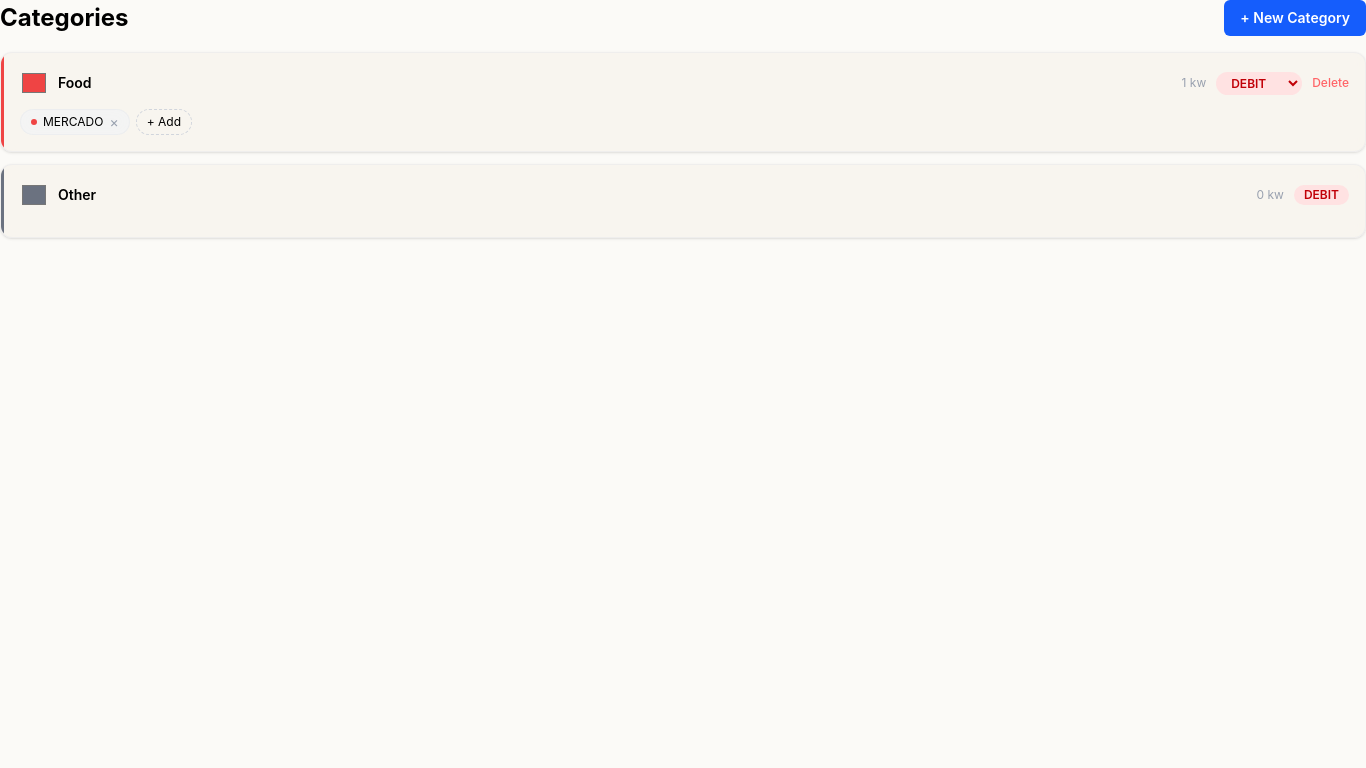
Scenario: Categories › opens keyword modal when add keyword clicked
The width and height of the screenshot is (1366, 768).
Click the button "+ Add".
click(164, 122)  # box [136,109,192,135]
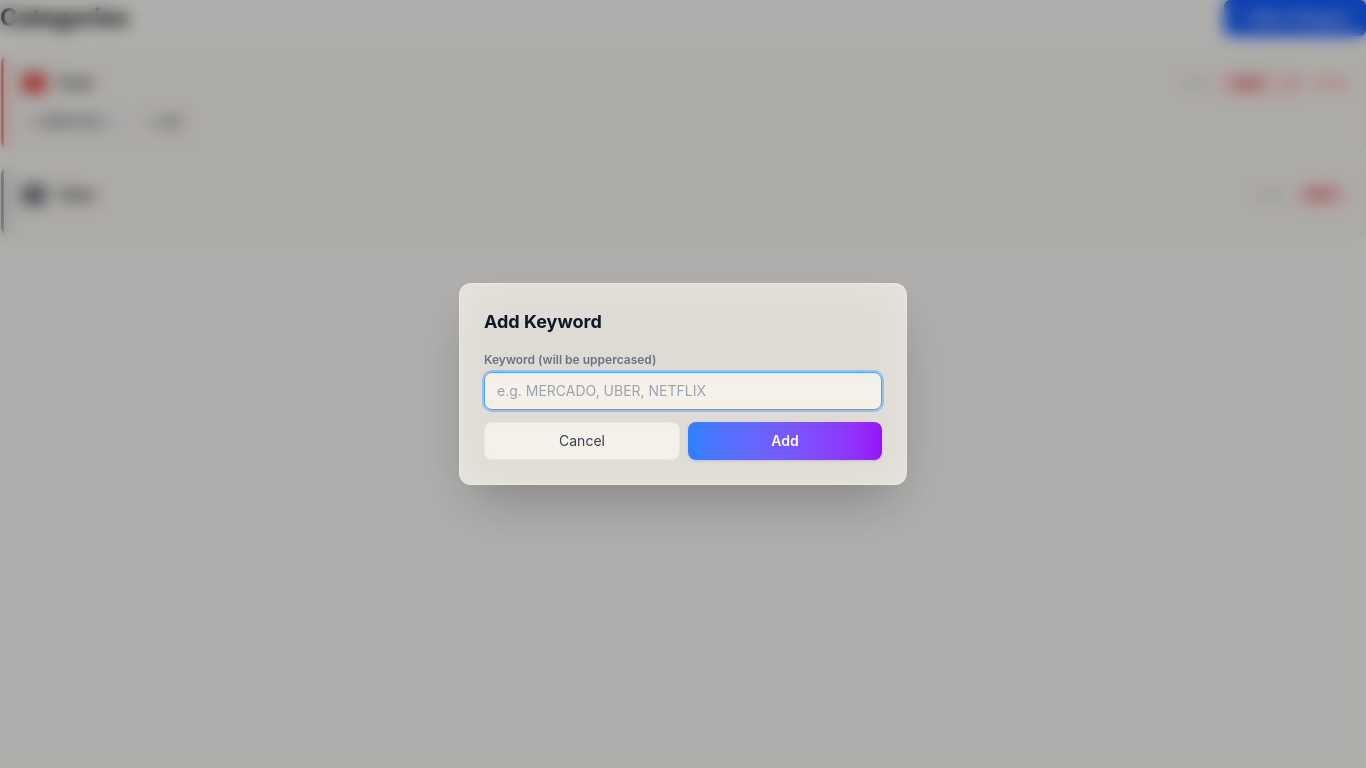
expect the heading "Add Keyword" is shown: met, box [484,311,602,332]
